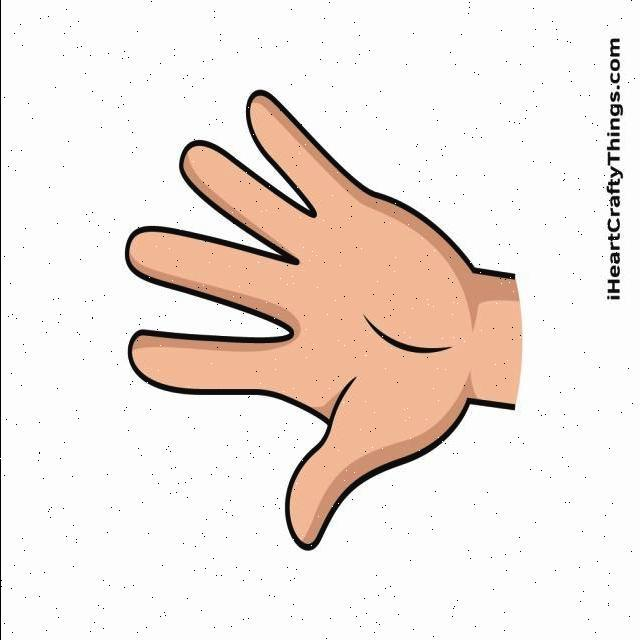no_apron: (119, 86, 559, 551)
